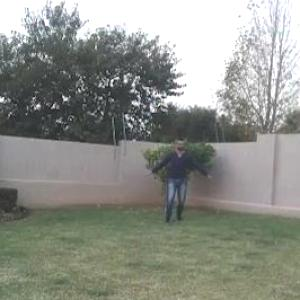land: (148, 129, 222, 229)
